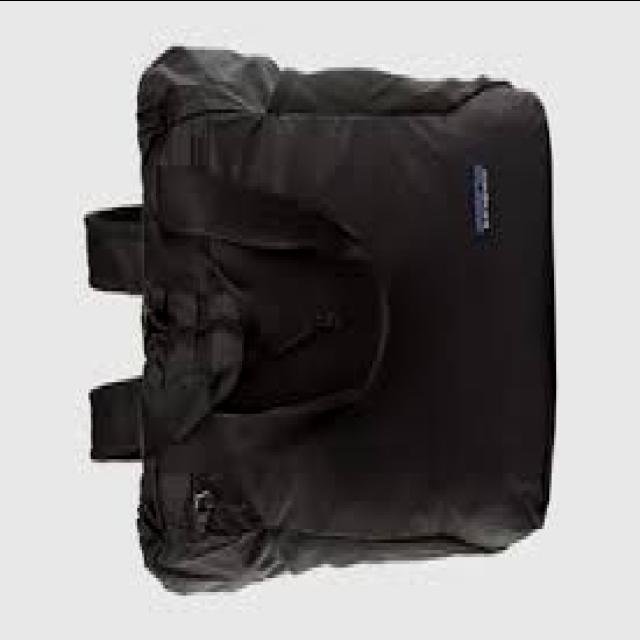backpack: (83, 47, 555, 599)
